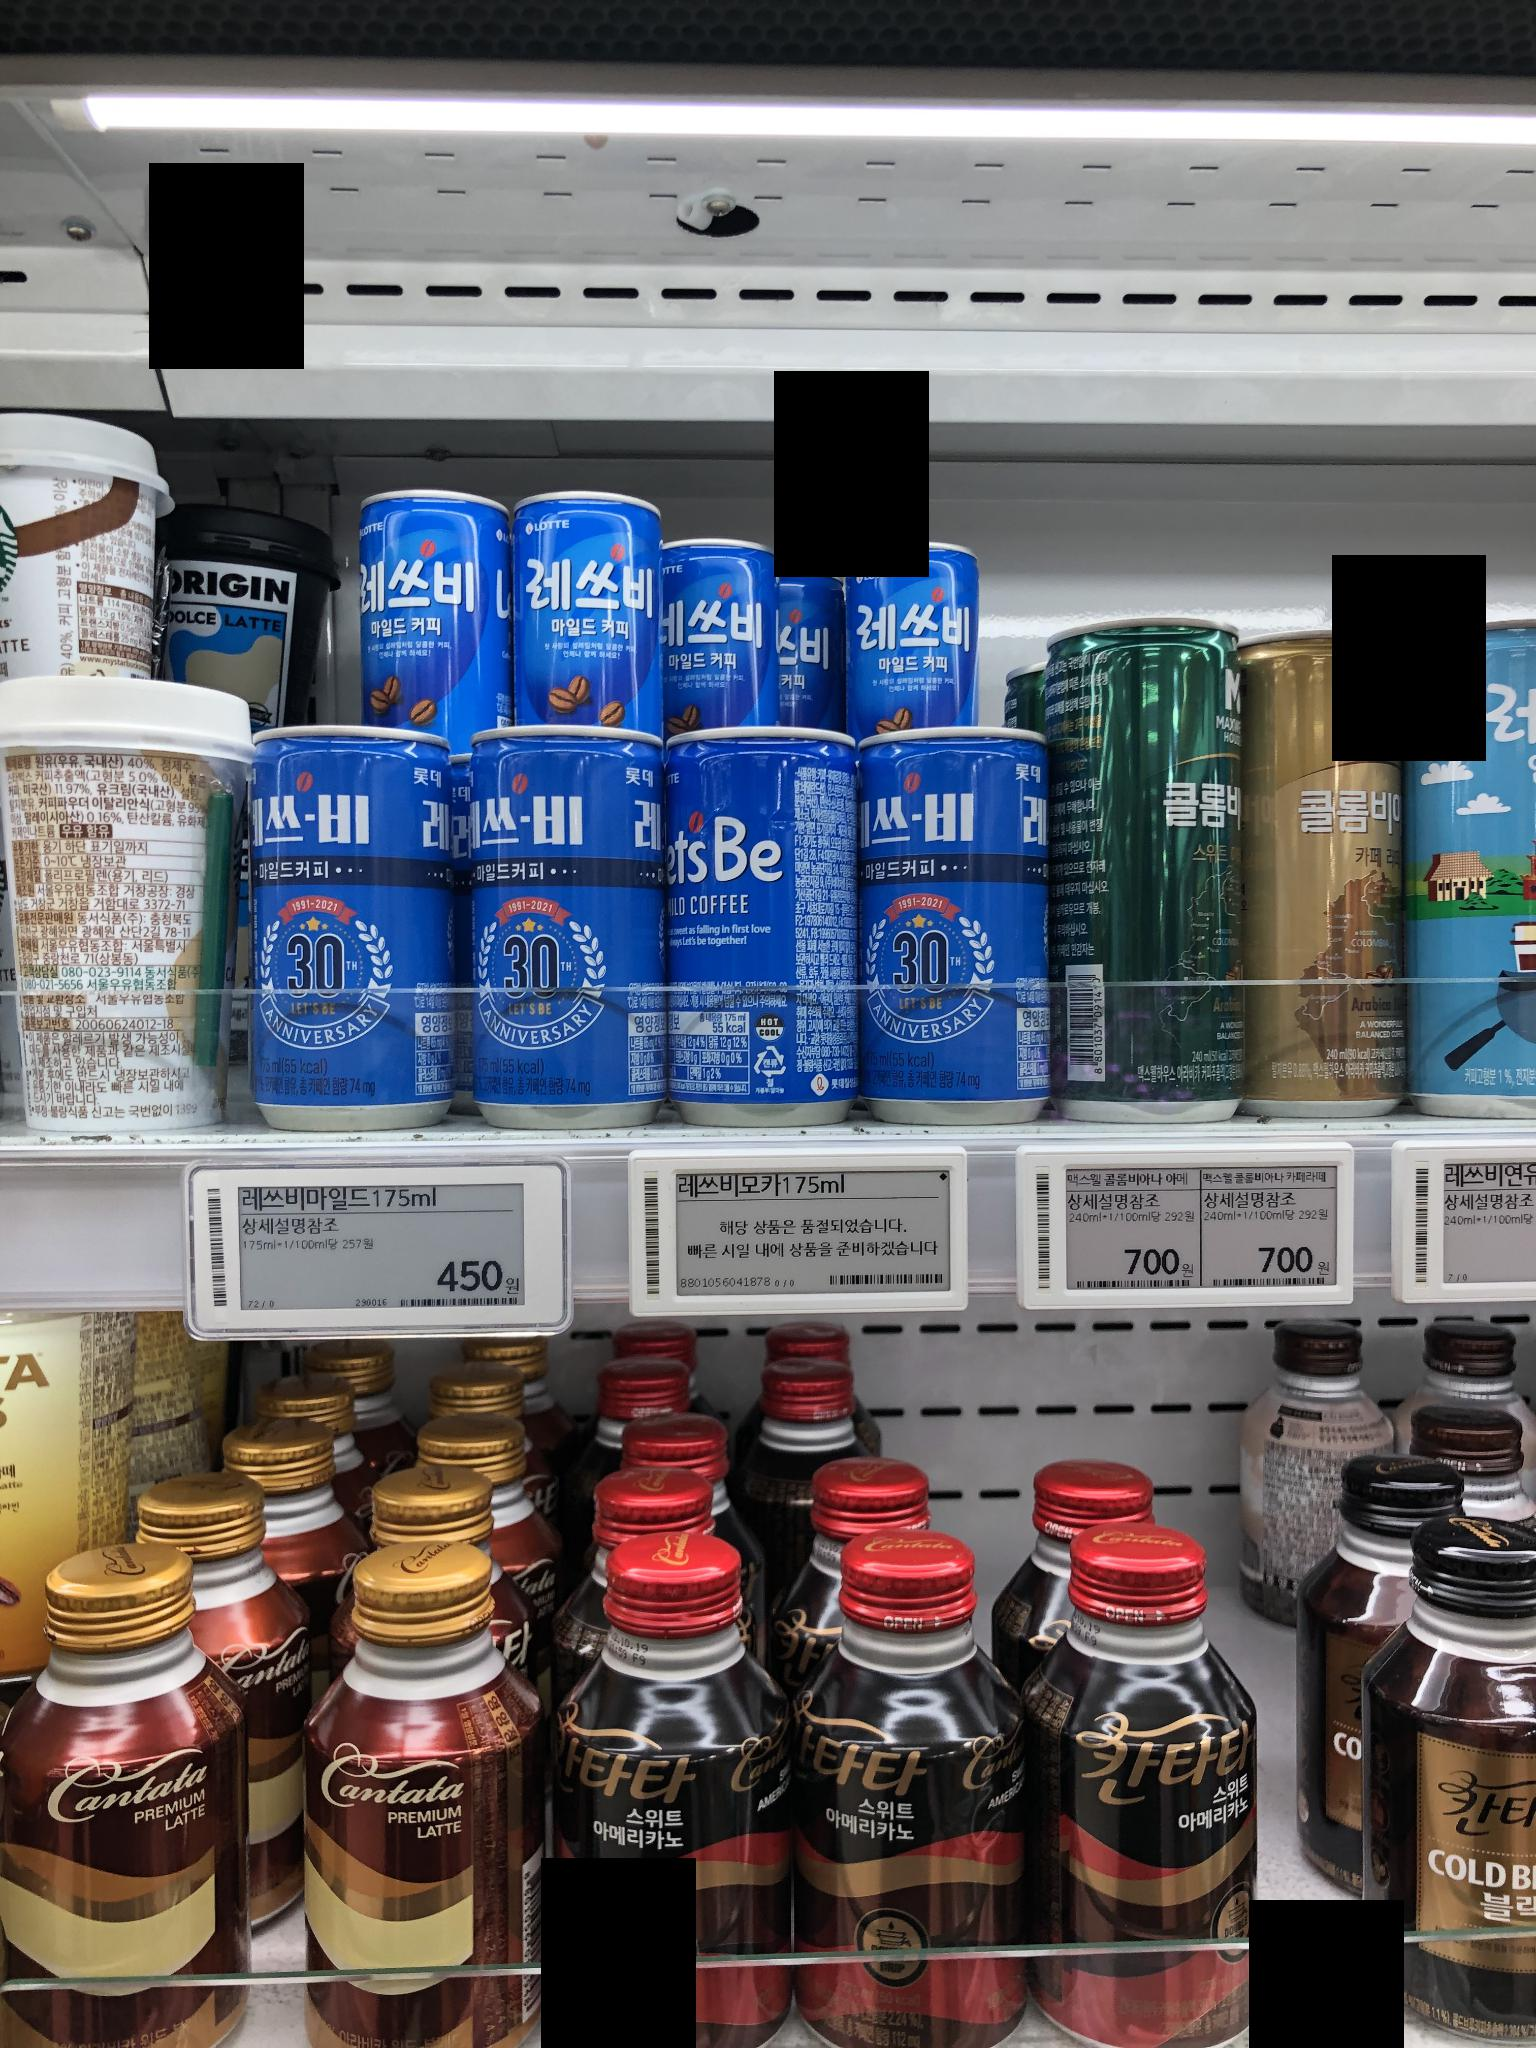letsbe: (219, 706, 434, 1114), (850, 726, 1060, 1126), (658, 726, 855, 1130), (449, 716, 637, 1129), (505, 477, 658, 724), (352, 498, 478, 743), (855, 539, 973, 719), (666, 527, 768, 727)
